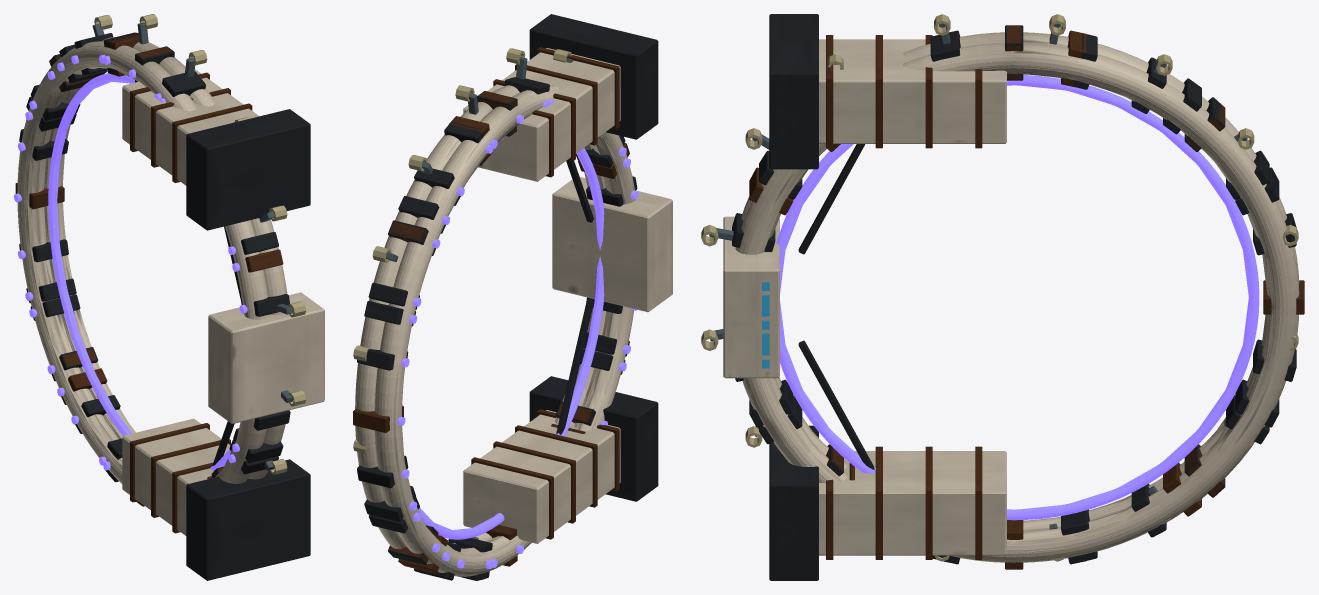
File: place_gate_jump_ring.glb
The picture shows the model from 3 angles, left to right: view 1: azimuth 30°, elevation 25°; view 2: azimuth 150°, elevation 25°; view 3: azimuth 270°, elevation 25°; orthographic projection. The views are drawn at different scales.
Visible parts, largest first — view 1: LOD0_Station_Material_Hull, LOD0_Station_Material_Mechanical, LOD1_Station_Material_Hull, LOD2_Station_Material_Hull, LOD2_Station_Material_Mechanical, LOD1_Station_Material_Mechanical, LOD0_Station_Material_Warm, LOD1_Station_Material_Warm, LOD2_Station_Material_Accent, LOD0_Station_Material_Accent, LOD0_Remaster_Material_Hull_VitreousCeramic, LOD1_Station_Material_Accent (+2 smaller); view 2: LOD0_Station_Material_Hull, LOD1_Station_Material_Hull, LOD2_Station_Material_Hull, LOD0_Station_Material_Mechanical, LOD1_Station_Material_Mechanical, LOD2_Station_Material_Mechanical, LOD0_Station_Material_Warm, LOD1_Station_Material_Warm, LOD2_Station_Material_Accent, LOD0_Station_Material_Accent, LOD2_Station_Material_Warm, LOD0_Remaster_Material_Hull_VitreousCeramic (+2 smaller); view 3: LOD0_Station_Material_Hull, LOD1_Station_Material_Hull, LOD2_Station_Material_Hull, LOD0_Station_Material_Mechanical, LOD1_Station_Material_Mechanical, LOD0_Station_Material_Accent, LOD0_Station_Material_Warm, LOD2_Station_Material_Mechanical, LOD1_Station_Material_Warm, LOD2_Station_Material_Accent, LOD0_Remaster_Material_Hull_VitreousCeramic, LOD2_Station_Material_Warm (+2 smaller).
Boxes of the visible parts, x1,y1,x2,y2 form: LOD0_Station_Material_Hull: (17,37,322,483); LOD0_Station_Material_Mechanical: (19,32,308,578); LOD1_Station_Material_Hull: (18,44,323,534); LOD2_Station_Material_Hull: (19,50,324,535); LOD2_Station_Material_Mechanical: (49,46,310,580); LOD1_Station_Material_Mechanical: (26,44,310,580); LOD0_Station_Material_Warm: (16,47,251,532); LOD1_Station_Material_Warm: (15,33,283,532); LOD2_Station_Material_Accent: (49,78,229,469); LOD0_Station_Material_Accent: (14,54,247,470); LOD0_Remaster_Material_Hull_VitreousCeramic: (94,14,306,474); LOD1_Station_Material_Accent: (14,55,239,470); LOD0_Station_Material_Hull: (355,48,671,576); LOD1_Station_Material_Hull: (355,52,672,575); LOD2_Station_Material_Hull: (375,48,672,571); LOD0_Station_Material_Mechanical: (357,15,657,580); LOD1_Station_Material_Mechanical: (364,14,657,579); LOD2_Station_Material_Mechanical: (388,14,658,564); LOD0_Station_Material_Warm: (354,47,619,564); LOD1_Station_Material_Warm: (353,47,629,573); LOD2_Station_Material_Accent: (419,139,604,535); LOD0_Station_Material_Accent: (397,99,638,569); LOD2_Station_Material_Warm: (353,47,619,566); LOD0_Remaster_Material_Hull_VitreousCeramic: (353,48,571,453); LOD0_Station_Material_Hull: (727,32,1299,562); LOD1_Station_Material_Hull: (724,33,1297,561); LOD2_Station_Material_Hull: (723,39,1287,555); LOD0_Station_Material_Mechanical: (732,14,1296,578); LOD1_Station_Material_Mechanical: (749,14,1279,579); LOD0_Station_Material_Accent: (776,75,1259,520); LOD0_Station_Material_Warm: (826,26,1302,567); LOD2_Station_Material_Mechanical: (769,14,1225,580); LOD1_Station_Material_Warm: (749,30,1304,559); LOD2_Station_Material_Accent: (780,82,1253,516); LOD0_Remaster_Material_Hull_VitreousCeramic: (701,14,1298,561); LOD2_Station_Material_Warm: (826,35,1304,569).
Bounding box in the file's own units: 20 × 85.56 × 84.97.
Materials: 8 (8 with a texture image).
